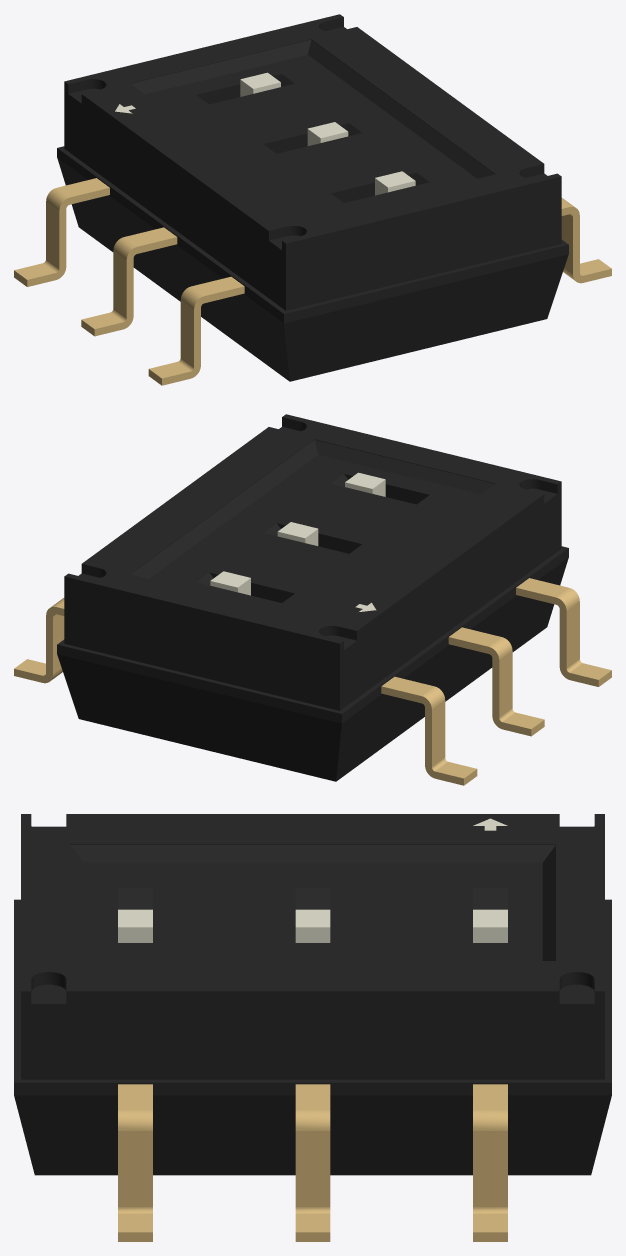
File: kc-sw_dip_spstx03_slide_omron_a6s-310x_w8.9mm_p2.54mm.glb
3 renders of one model, top to bottom at view 1: azimuth 30°, elevation 25°; view 2: azimuth 150°, elevation 25°; view 3: azimuth 270°, elevation 25°, orthographic. The views are drawn at different scales.
Visible parts, largest first — view 1: 0_0_0_0, 0.75_0.5_0.25_0.9, 0.75_0.75_0.6666666666666666_0; view 2: 0_0_0_0, 0.75_0.5_0.25_0.9, 0.75_0.75_0.6666666666666666_0; view 3: 0_0_0_0, 0.75_0.5_0.25_0.9, 0.75_0.75_0.6666666666666666_0.
Boxes of the visible parts, x1,y1,x2,y2 form: 0_0_0_0: (57, 14, 568, 381); 0.75_0.5_0.25_0.9: (14, 178, 611, 385); 0.75_0.75_0.6666666666666666_0: (115, 72, 415, 195); 0_0_0_0: (57, 414, 568, 781); 0.75_0.5_0.25_0.9: (14, 578, 611, 785); 0.75_0.75_0.6666666666666666_0: (210, 472, 385, 611); 0_0_0_0: (14, 814, 611, 1175); 0.75_0.5_0.25_0.9: (118, 1084, 507, 1241); 0.75_0.75_0.6666666666666666_0: (118, 818, 507, 942).
Bounding box in the file's own units: 0.98 × 0.3075 × 0.856.
